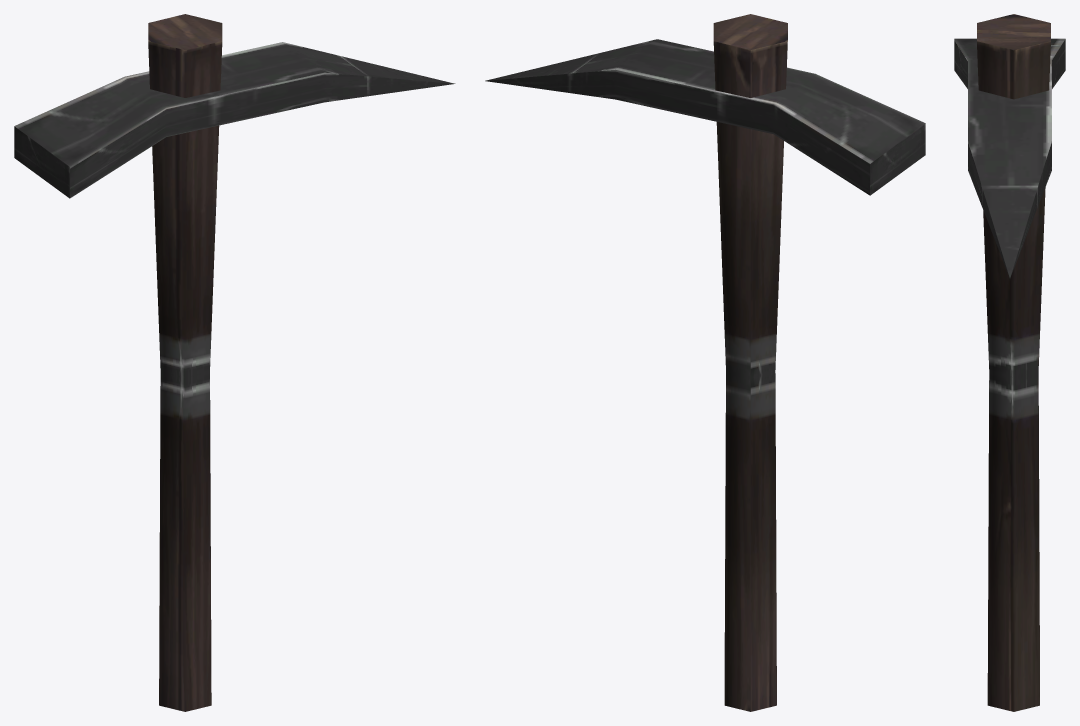
The model's file is environment_common_tiegao_001_a.FBX.
3 renders of one model, left to right at view 1: azimuth 30°, elevation 25°; view 2: azimuth 150°, elevation 25°; view 3: azimuth 270°, elevation 25°, orthographic.
Parts seen in each view (by area): view 1: environment_common_tiegao_001_a; view 2: environment_common_tiegao_001_a; view 3: environment_common_tiegao_001_a.
Part boxes in pixels (box(x1,y1,x2,y2)): environment_common_tiegao_001_a: box(14, 14, 455, 711); environment_common_tiegao_001_a: box(485, 14, 925, 711); environment_common_tiegao_001_a: box(954, 14, 1065, 711).
Size of the model in its own units: 63.53 by 97.88 by 14.8.
